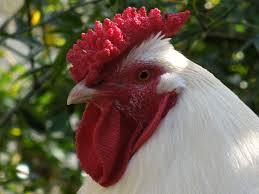AbNormal: (66, 6, 191, 79)
